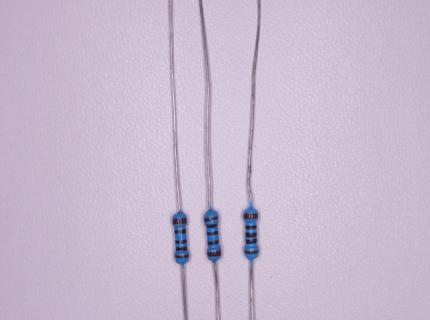Black band: (208, 239, 219, 245), (246, 232, 257, 238), (246, 238, 257, 244), (176, 246, 188, 251), (175, 239, 187, 244), (174, 229, 186, 234), (206, 223, 218, 228), (207, 230, 218, 235), (246, 225, 256, 230)
Brown band: (172, 217, 187, 224), (243, 213, 258, 220), (207, 250, 221, 257), (204, 216, 219, 222), (175, 253, 190, 259), (244, 249, 259, 254)
